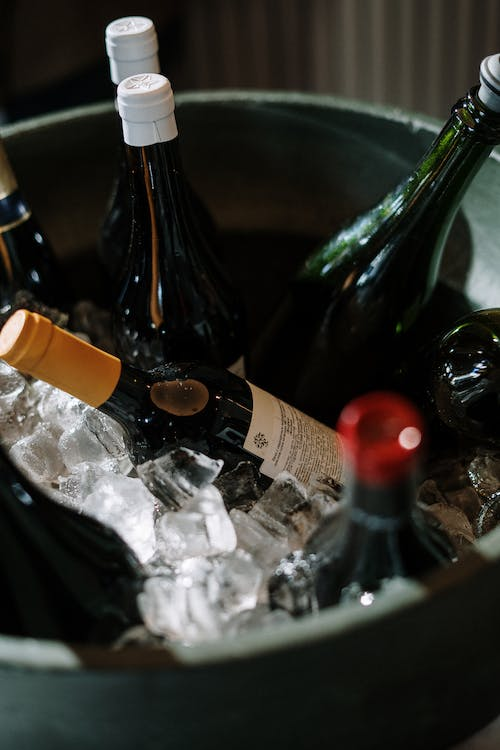alcohol: (244, 52, 500, 432), (0, 307, 349, 513), (107, 70, 250, 381), (103, 15, 222, 360), (301, 390, 459, 619), (0, 130, 82, 300)
